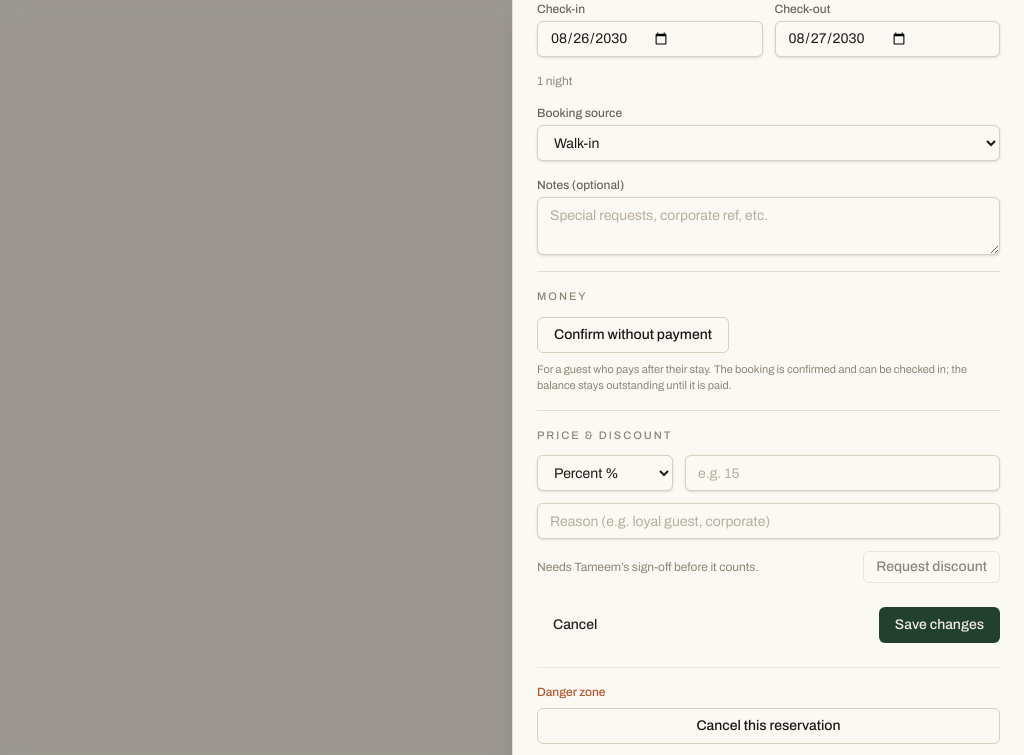
ReservationFormDrawer — discount control › shows the server’s refusal inside the drawer when the discount request fails
The width and height of the screenshot is (1024, 755).
(page scrolled)
Type "10" into the field named "Discount percentage" at [842, 473], box 685,455 -> 1000,491
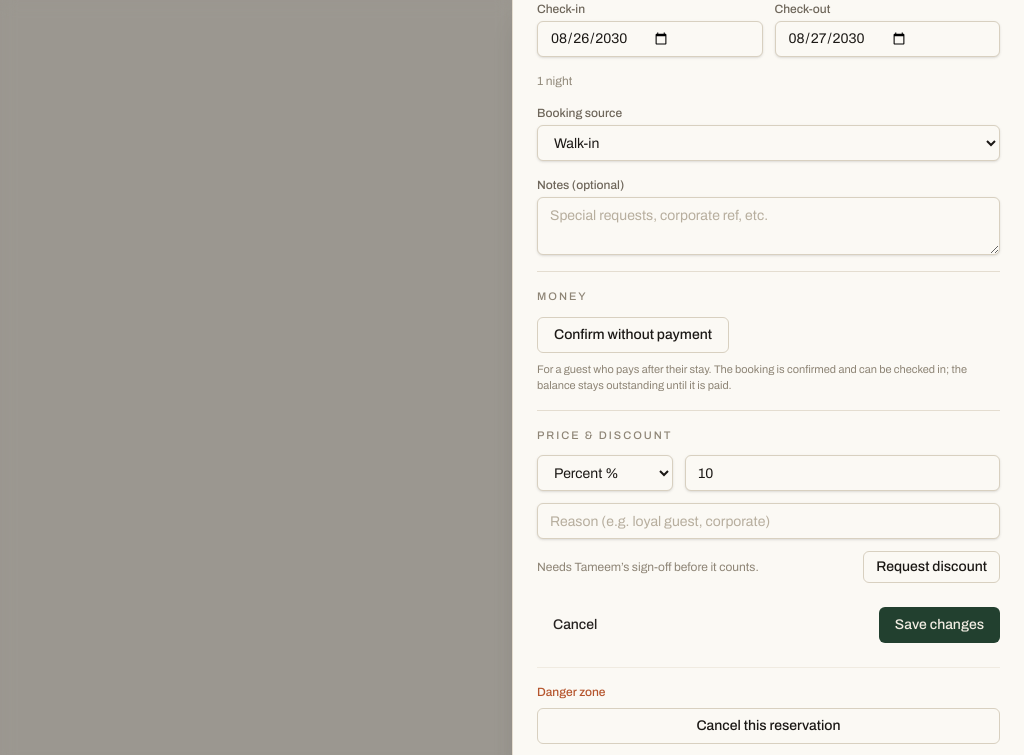
Click the button "Request discount" at [932, 567], box 863,551 -> 1000,583
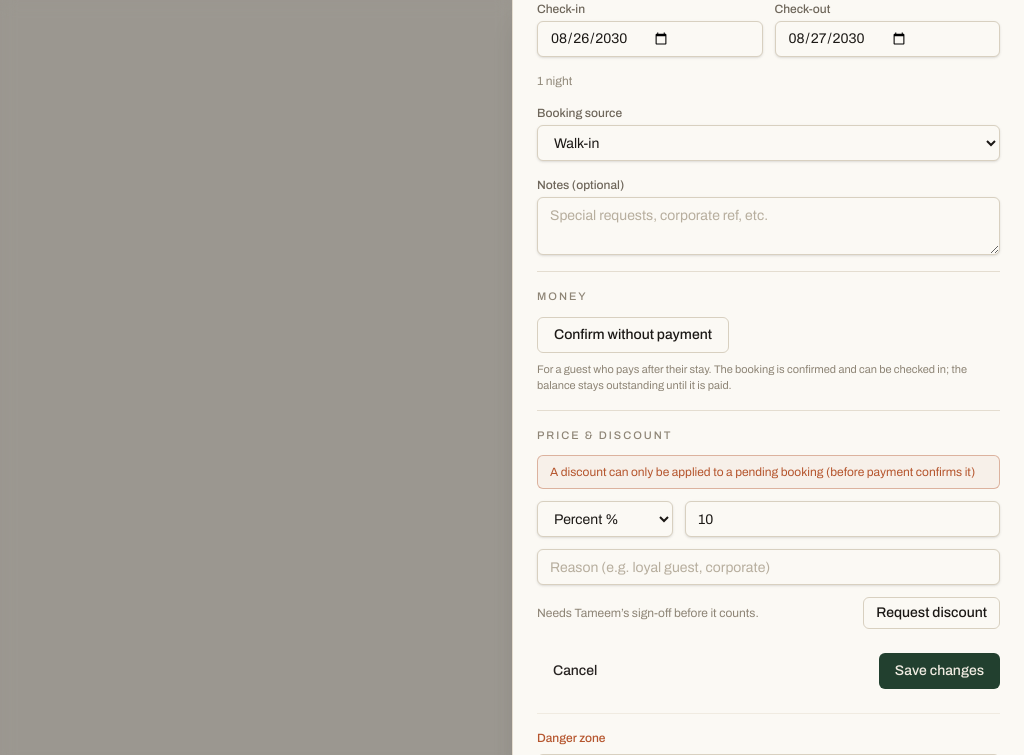
expect the text "A discount can only be applied to a pending booking (before payment confirms it)" is shown: met, box 537,455 -> 1000,489
# …and typing again clears the stale message.
Replace the text in the field named "Discount percentage" with "11" at [842, 519], box 685,501 -> 1000,537
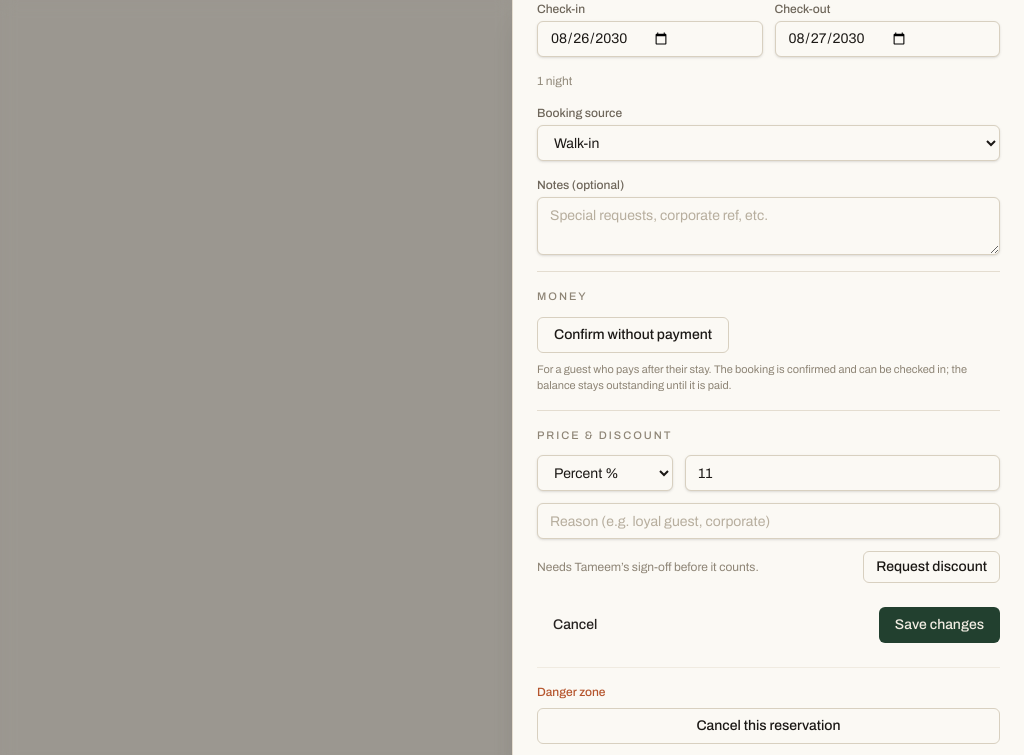
expect the text "can only be applied to a pending booking" is gone: met
